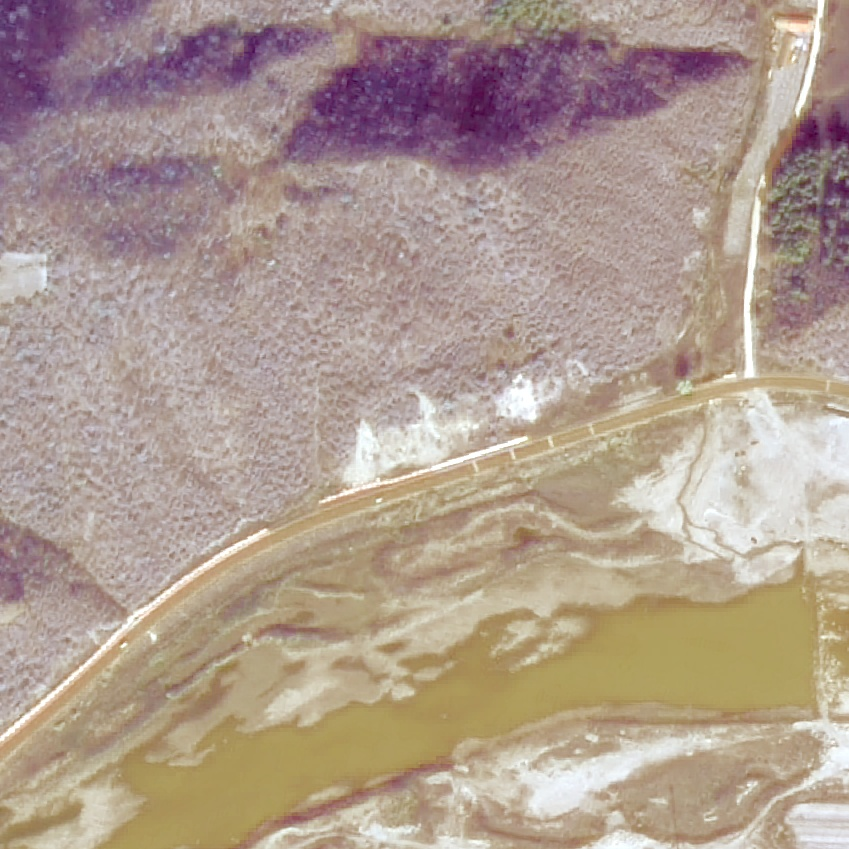slope: (615, 387, 848, 581), (339, 362, 570, 488)
